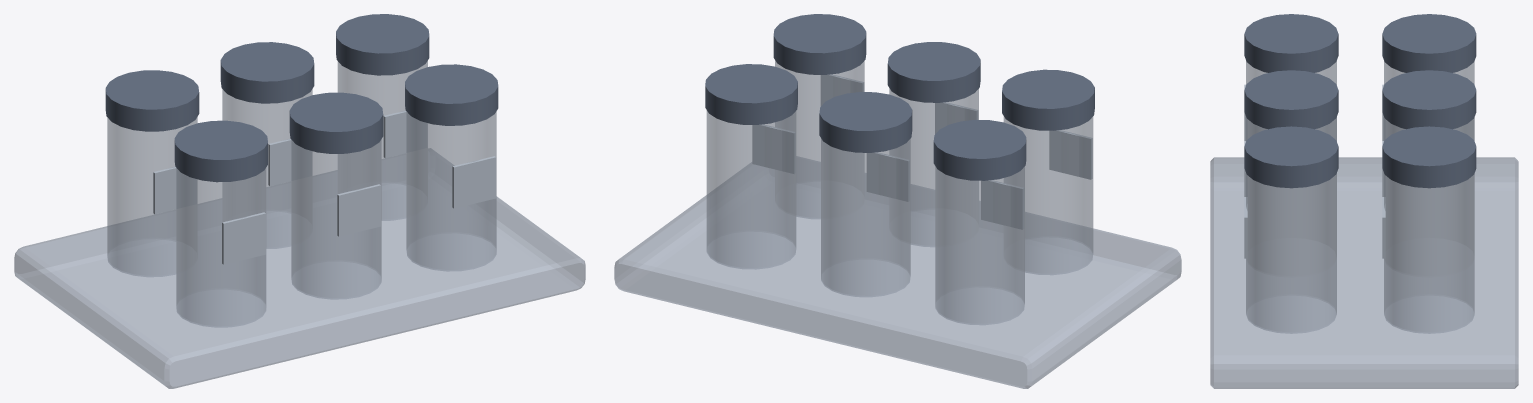
Rendered from spice-set-lite.glb.
3 views of the same model, side by side, from view 1: azimuth 30°, elevation 25°; view 2: azimuth 150°, elevation 25°; view 3: azimuth 270°, elevation 25° (orthographic).
Parts seen in each view (by area): view 1: body, soft, dark, light; view 2: body, soft, dark, light; view 3: body, dark, soft, light.
Part boxes in pixels (left/top/right/bottom): body: left=14, top=148, right=585, bottom=388; soft: left=107, top=61, right=496, bottom=327; dark: left=105, top=14, right=498, bottom=182; light: left=153, top=110, right=496, bottom=264; body: left=614, top=156, right=1181, bottom=388; soft: left=706, top=60, right=1093, bottom=324; dark: left=705, top=14, right=1094, bottom=180; light: left=752, top=74, right=1092, bottom=229; body: left=1210, top=157, right=1518, bottom=388; dark: left=1244, top=14, right=1476, bottom=188; soft: left=1246, top=61, right=1474, bottom=333; light: left=1244, top=84, right=1385, bottom=258.
Size of the model in its own units: 0.3 by 0.1355 by 0.19.
